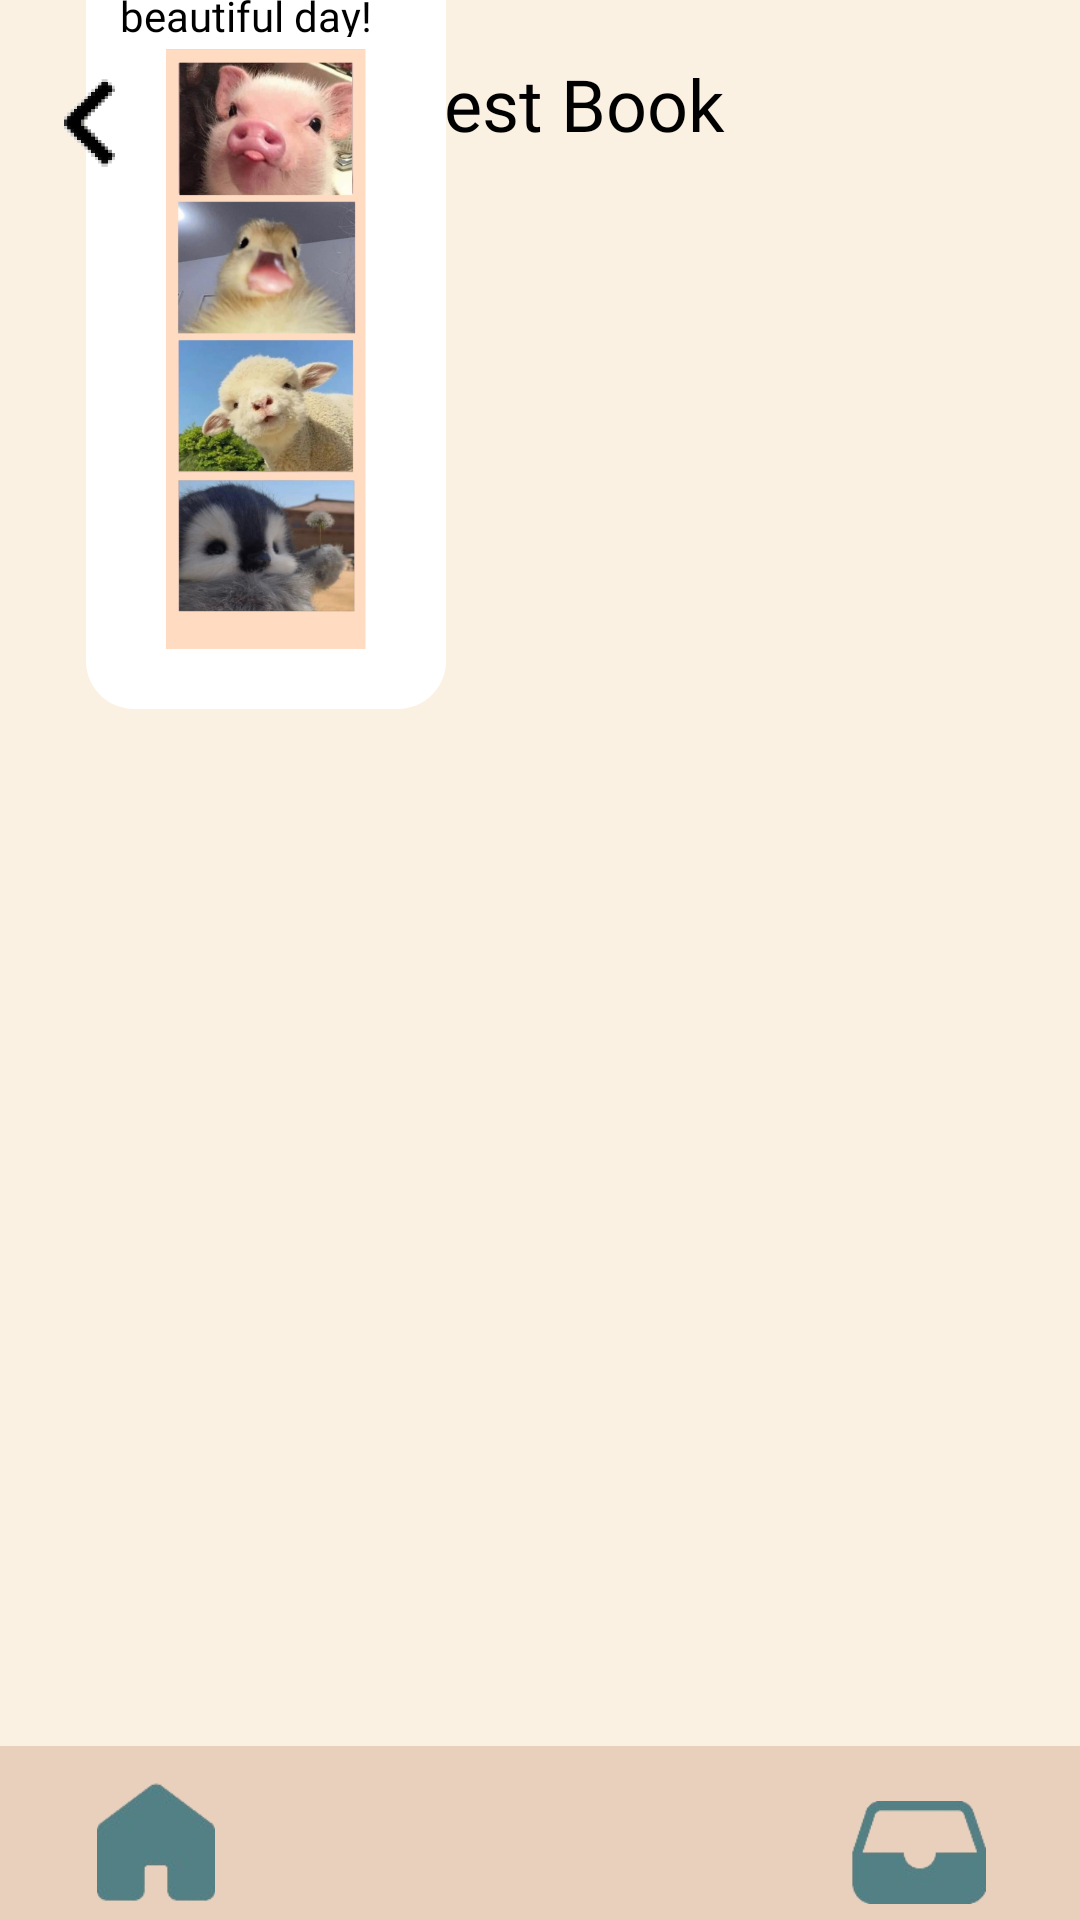

Named icons in this screenshot (1080*1920) and their centers, (x,y):
home: (156,1842)
